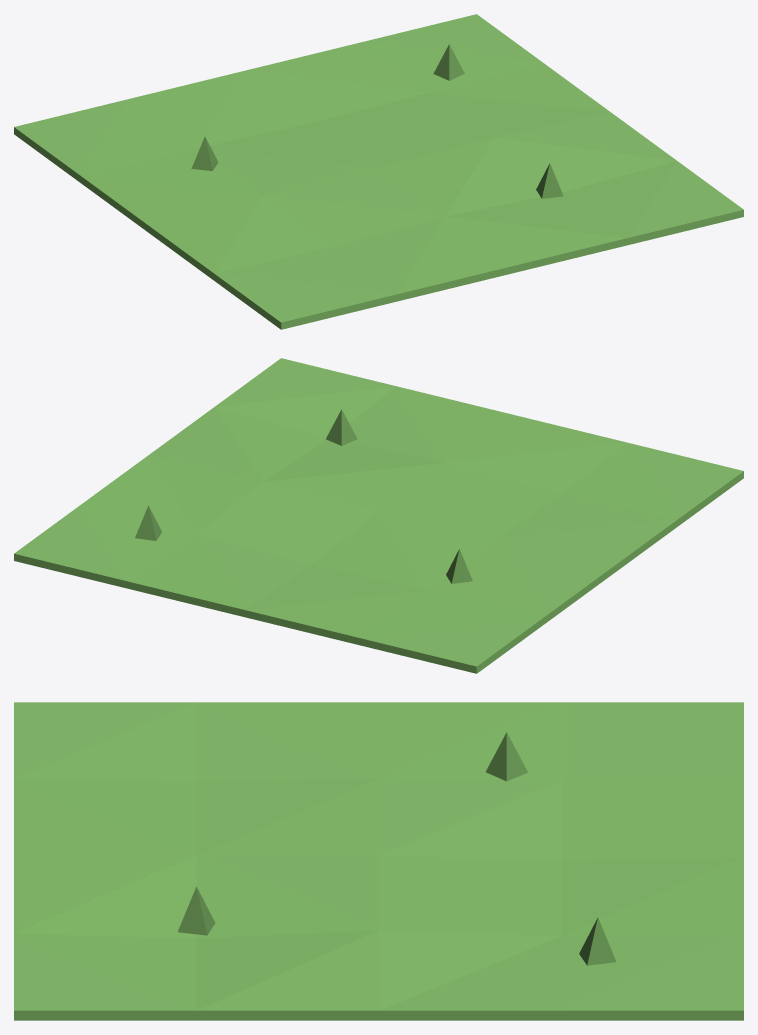
File: lantai_sungai_v001.glb
3 renders of one model, top to bottom at view 1: azimuth 30°, elevation 25°; view 2: azimuth 150°, elevation 25°; view 3: azimuth 270°, elevation 25°, orthographic. The views are drawn at different scales.
Parts seen in each view (by area): view 1: lantai_sungai; view 2: lantai_sungai; view 3: lantai_sungai.
Boxes of the visible parts, x1,y1,x2,y2 form: lantai_sungai: (14, 14, 743, 329); lantai_sungai: (14, 358, 743, 673); lantai_sungai: (14, 702, 743, 1020).
Size of the model in its own units: 4 by 0.3 by 4.
